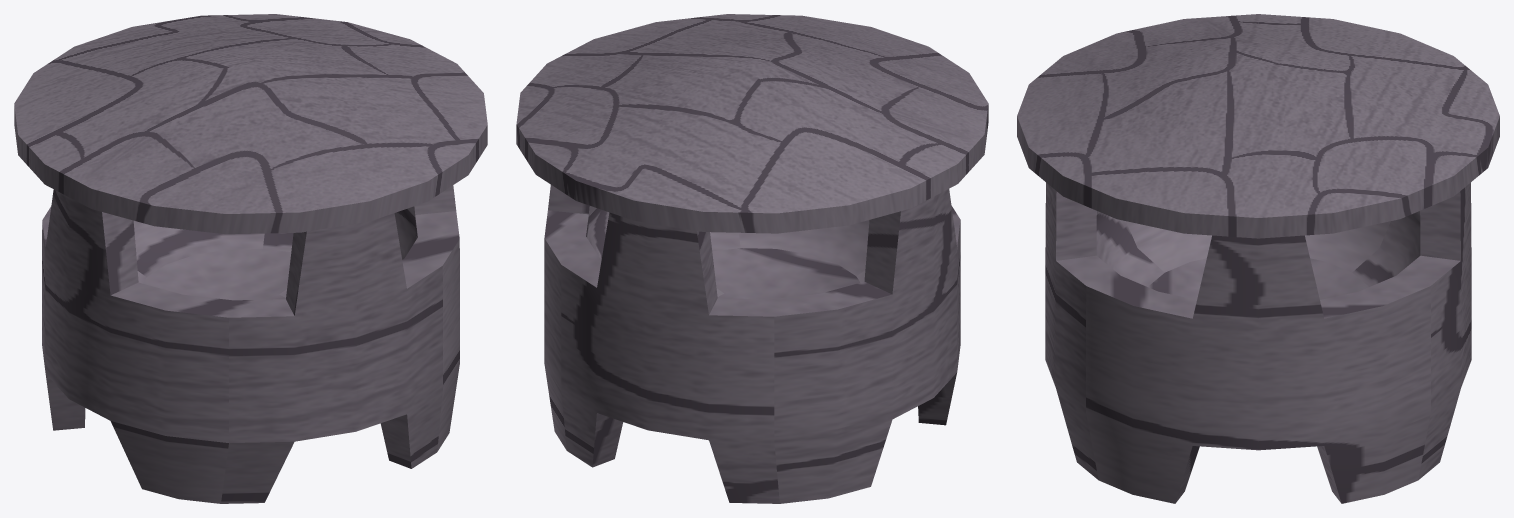
File: OfferingBowl_Final.obj
3 renders of one model, left to right at view 1: azimuth 30°, elevation 25°; view 2: azimuth 150°, elevation 25°; view 3: azimuth 270°, elevation 25°, orthographic.
Visible parts, largest first — view 1: OfferingBowl_Base, OfferingBowl_Lid; view 2: OfferingBowl_Base, OfferingBowl_Lid; view 3: OfferingBowl_Base, OfferingBowl_Lid.
Boxes of the visible parts, box(x1,y1,x2,y2) form: OfferingBowl_Base: box(42, 185, 459, 503); OfferingBowl_Lid: box(14, 14, 487, 234); OfferingBowl_Base: box(544, 185, 960, 503); OfferingBowl_Lid: box(516, 14, 988, 233); OfferingBowl_Base: box(1045, 182, 1471, 503); OfferingBowl_Lid: box(1017, 14, 1499, 238).
Bounding box in the file's own units: 3.66 × 3.02 × 3.66.
Materials: 1 (1 with a texture image).
